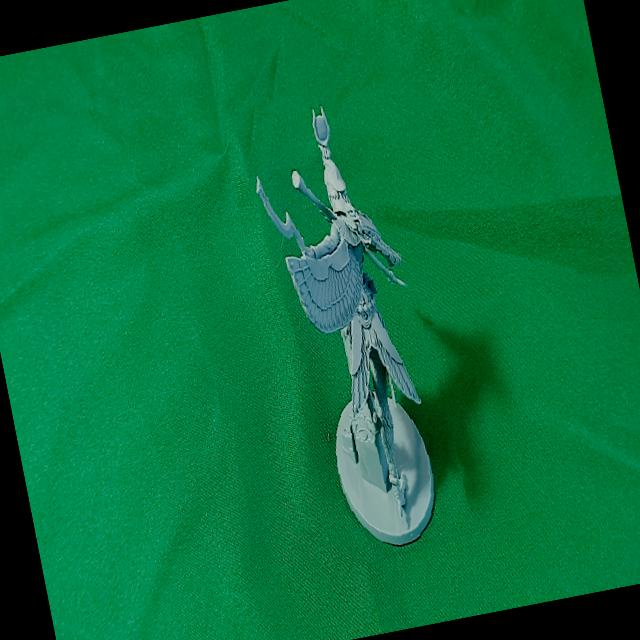isis: (238, 78, 472, 570)
